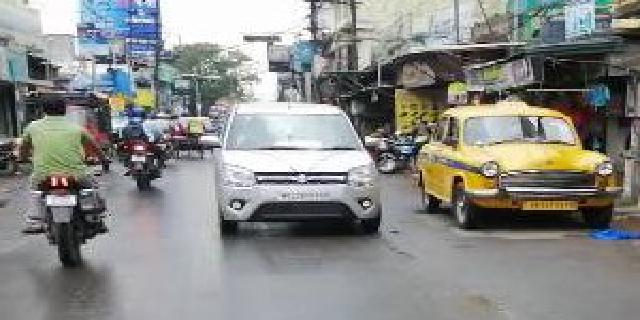Car: (416, 100, 628, 235), (220, 94, 378, 241)
Motorbike: (32, 93, 118, 274), (121, 101, 166, 194)
